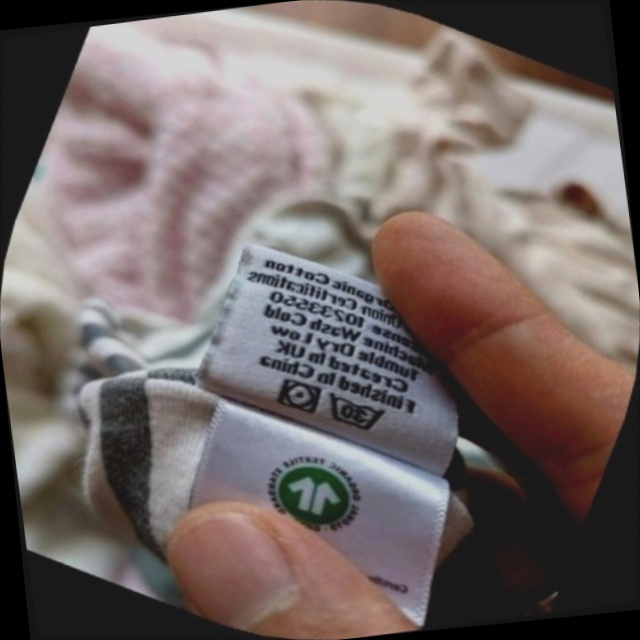30C: (308, 374, 402, 452)
tumble_dry_low: (264, 363, 335, 429)
